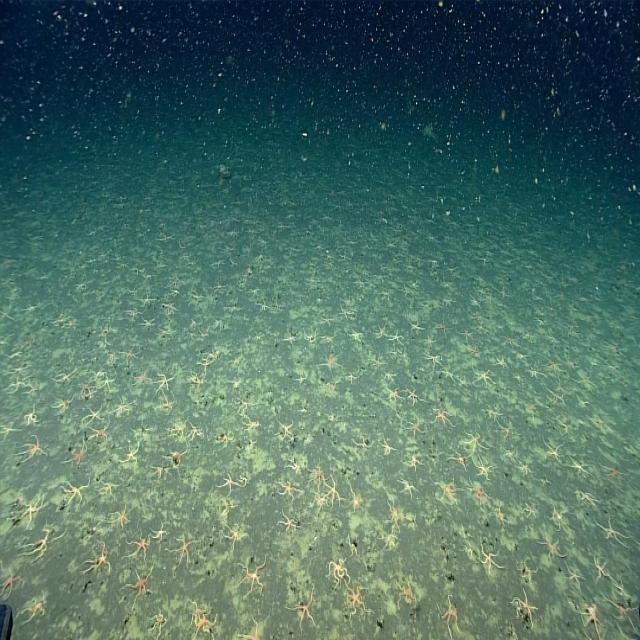brittle-stars: (289, 579, 322, 639), (15, 484, 47, 530), (239, 548, 267, 600), (186, 598, 220, 640), (86, 535, 116, 582), (20, 585, 52, 629), (128, 558, 156, 607), (62, 471, 88, 522), (1, 365, 34, 405), (27, 525, 57, 567), (220, 517, 247, 562), (596, 518, 632, 551), (577, 598, 605, 640), (66, 429, 91, 476), (539, 524, 570, 561), (176, 528, 199, 574), (150, 508, 175, 550), (440, 594, 466, 634), (608, 595, 636, 632), (197, 338, 224, 375), (19, 436, 51, 467), (344, 578, 370, 616), (129, 526, 154, 565), (328, 548, 348, 596), (120, 436, 143, 477), (568, 453, 598, 483), (538, 438, 568, 468), (274, 414, 300, 448), (574, 483, 602, 514), (481, 540, 506, 574), (440, 471, 461, 511), (121, 336, 141, 377), (398, 576, 419, 614), (0, 562, 18, 606), (604, 462, 631, 491), (513, 593, 536, 627), (319, 478, 341, 512), (432, 401, 456, 432), (0, 410, 21, 445), (52, 363, 80, 389), (113, 504, 135, 537), (160, 388, 180, 424), (592, 551, 610, 590), (613, 578, 636, 608), (182, 370, 208, 396), (215, 495, 238, 524), (466, 421, 487, 452), (281, 474, 300, 508), (223, 471, 251, 494), (91, 419, 109, 454), (97, 364, 118, 394), (147, 463, 171, 489), (306, 459, 326, 490), (547, 383, 567, 414), (77, 376, 94, 411), (466, 481, 488, 508), (399, 469, 418, 500), (444, 453, 471, 474), (565, 560, 586, 587), (115, 395, 133, 426), (519, 556, 537, 587), (289, 372, 313, 395), (494, 497, 511, 529), (347, 322, 367, 349), (85, 403, 104, 431), (386, 381, 405, 409), (166, 452, 192, 472), (216, 421, 233, 451), (183, 292, 206, 314), (376, 439, 399, 461), (54, 394, 72, 422), (552, 503, 570, 531), (154, 368, 168, 403), (100, 479, 122, 501), (24, 402, 40, 432), (516, 457, 536, 481), (190, 418, 202, 457), (498, 416, 516, 442), (172, 414, 188, 443), (407, 314, 423, 343), (474, 366, 495, 388), (151, 610, 171, 633), (281, 513, 299, 538), (346, 486, 362, 514), (476, 458, 492, 486), (530, 363, 550, 385), (409, 413, 425, 440), (492, 347, 510, 371), (352, 438, 374, 457), (338, 302, 357, 324), (321, 353, 344, 371), (288, 455, 306, 478), (382, 502, 402, 522), (301, 330, 319, 352), (326, 375, 341, 400), (235, 397, 257, 414), (280, 332, 299, 351), (406, 452, 424, 472), (549, 358, 567, 378), (459, 327, 479, 345), (443, 366, 460, 386), (407, 382, 421, 406), (210, 254, 229, 271), (342, 371, 361, 388), (242, 417, 265, 431), (125, 304, 141, 323), (522, 503, 537, 523), (377, 321, 388, 348), (158, 228, 176, 244), (426, 351, 444, 367), (372, 351, 386, 371), (141, 317, 156, 335), (143, 291, 158, 309), (388, 333, 406, 348), (442, 293, 457, 311), (382, 374, 402, 387), (162, 298, 178, 314), (212, 280, 228, 296), (259, 299, 269, 320), (248, 286, 260, 300), (109, 348, 119, 364)
